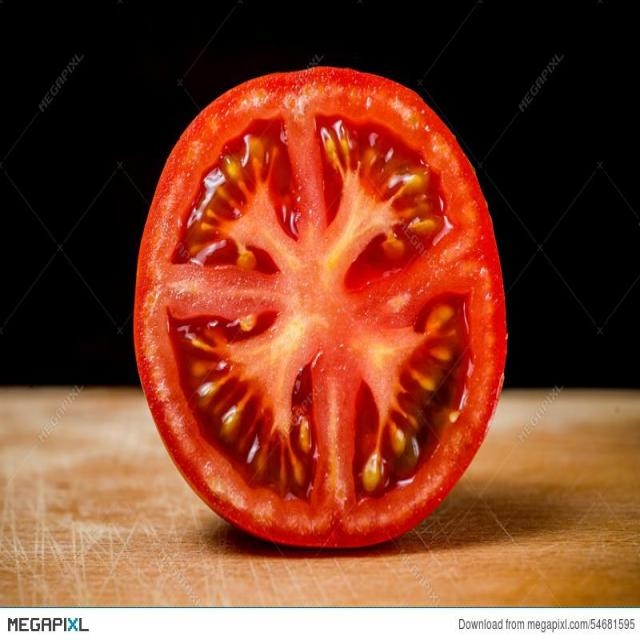Tomato: (131, 68, 512, 553)
